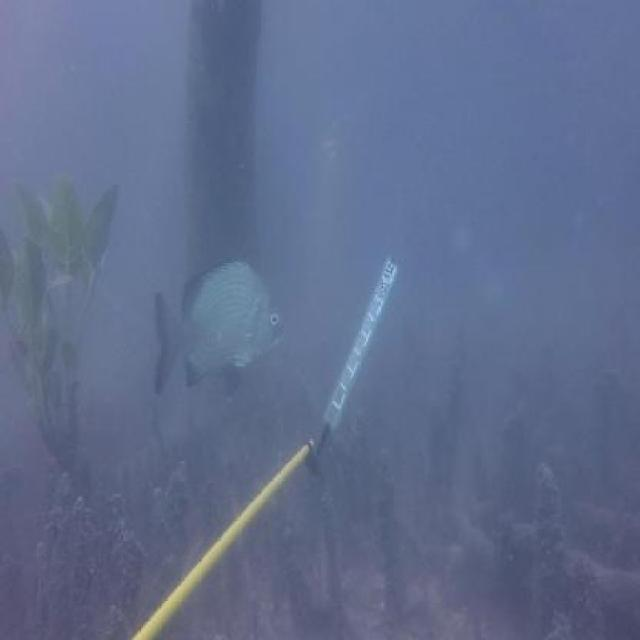acanthopagrus_palmaris: (154, 256, 292, 395)
